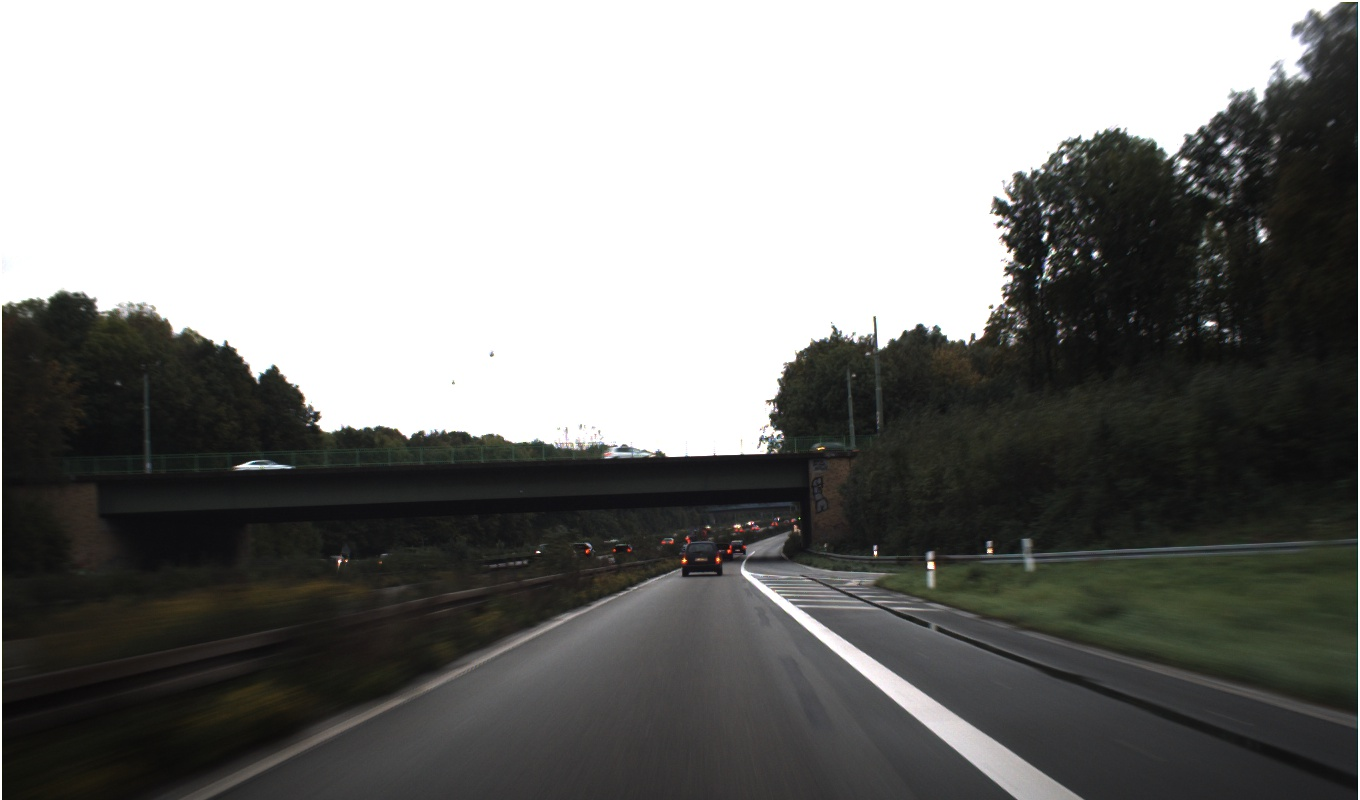car: (219, 448, 323, 510), (595, 429, 663, 484), (797, 437, 869, 473), (680, 544, 726, 596), (374, 547, 412, 577), (565, 537, 600, 569), (321, 550, 357, 578), (531, 538, 558, 566), (730, 532, 751, 561), (612, 542, 637, 565), (715, 537, 733, 568), (661, 536, 678, 558), (677, 529, 696, 545), (604, 538, 622, 545), (731, 522, 742, 533), (703, 524, 714, 533), (751, 523, 760, 532), (747, 520, 756, 527), (784, 519, 789, 528), (790, 518, 796, 525), (795, 514, 801, 521)
